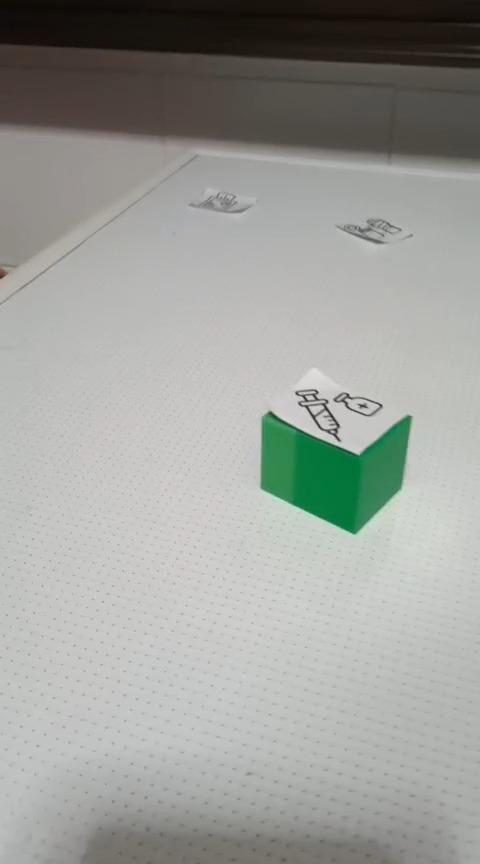antiseptic cream: (258, 365, 413, 534)
